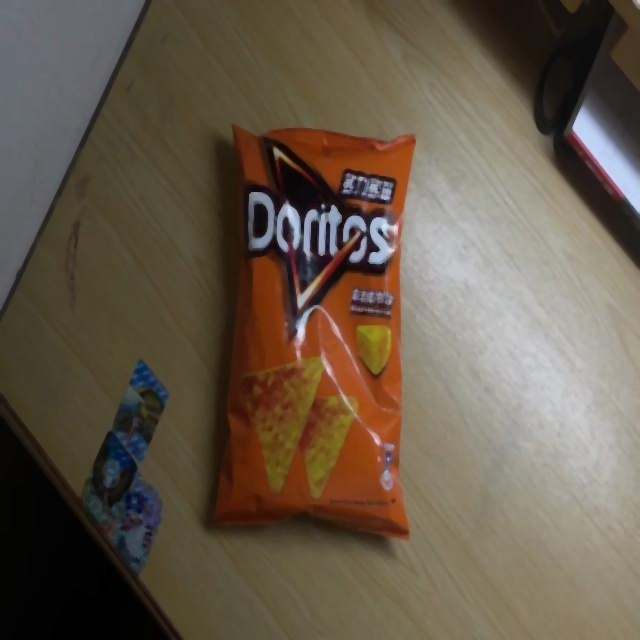Doritos: (209, 120, 416, 544)
